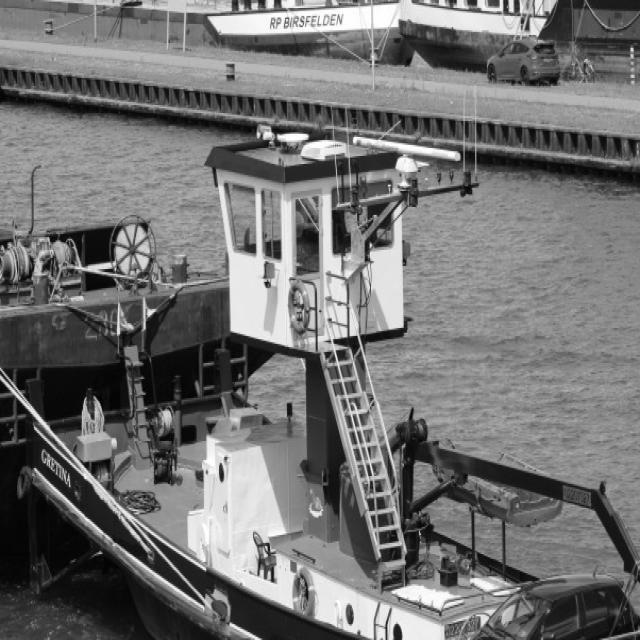tugboat: (18, 119, 640, 640)
